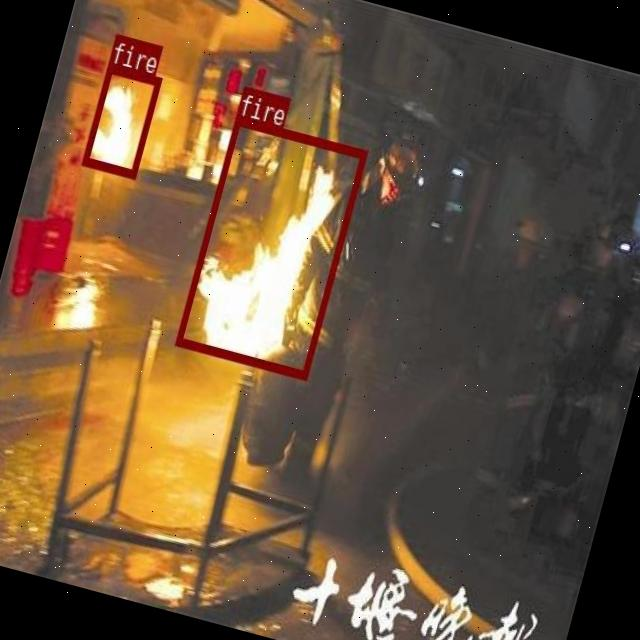fire: (174, 114, 366, 377), (80, 62, 162, 178)
